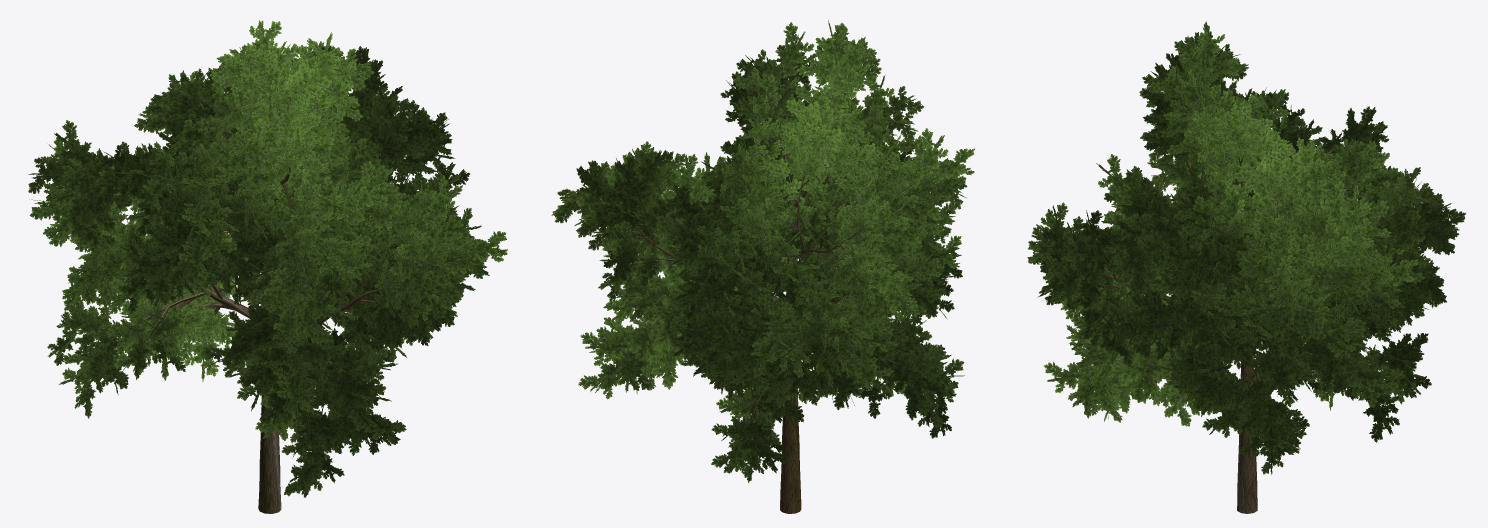
File: garden-oak.glb
3 renders of one model, left to right at view 1: azimuth 30°, elevation 25°; view 2: azimuth 150°, elevation 25°; view 3: azimuth 270°, elevation 25°, orthographic. The views are drawn at different scales.
Parts seen in each view (by area): view 1: Canopy, Branches; view 2: Canopy, Branches; view 3: Canopy, Branches.
Boxes of the visible parts, bbox=[...] form: Canopy: bbox=[28, 20, 507, 497]; Branches: bbox=[77, 105, 441, 513]; Canopy: bbox=[551, 20, 974, 482]; Branches: bbox=[630, 69, 924, 513]; Canopy: bbox=[1027, 21, 1466, 474]; Branches: bbox=[1092, 64, 1387, 513].
Bounding box in the file's own units: 10.51 × 12 × 10.43.
2 materials, 2 textured.
